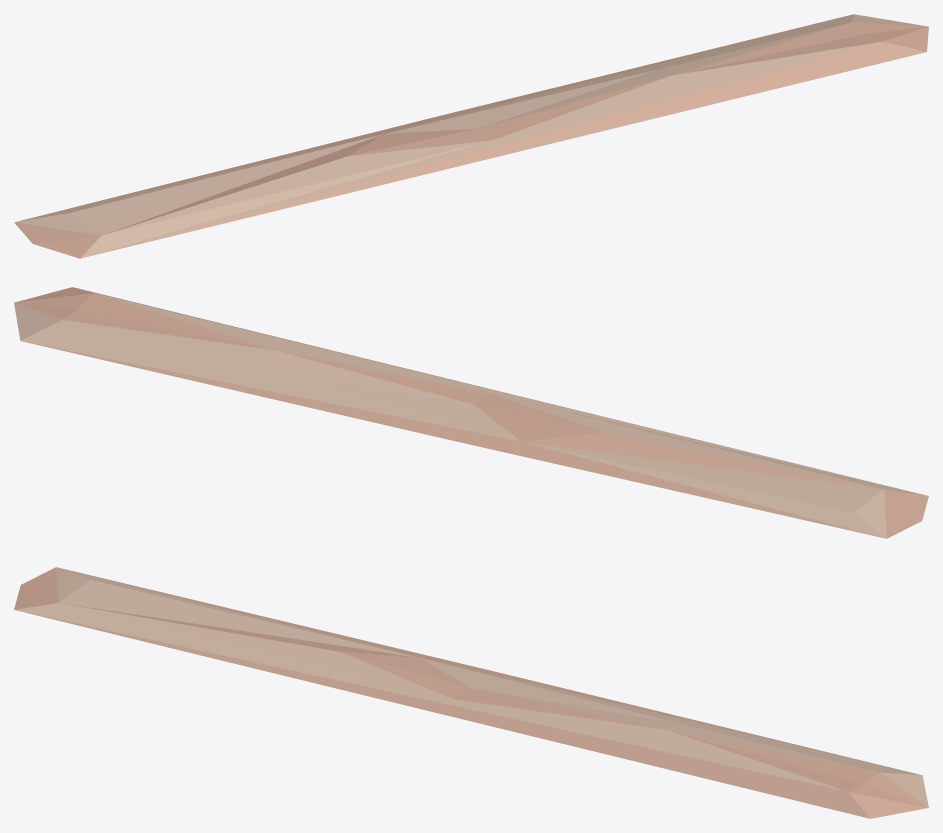
The model's file is DirtRoad.fbx.
The picture shows the model from 3 angles, top to bottom: view 1: azimuth 30°, elevation 25°; view 2: azimuth 150°, elevation 25°; view 3: azimuth 330°, elevation 25°; orthographic projection.
Visible parts, largest first — view 1: DirtRoad; view 2: DirtRoad; view 3: DirtRoad.
Boxes of the visible parts, x1=… form: DirtRoad: x1=14, y1=14, x2=928, y2=258; DirtRoad: x1=14, y1=287, x2=928, y2=538; DirtRoad: x1=14, y1=567, x2=928, y2=818.
Size of the model in its own units: 52.86 by 0.9978 by 6.36.
